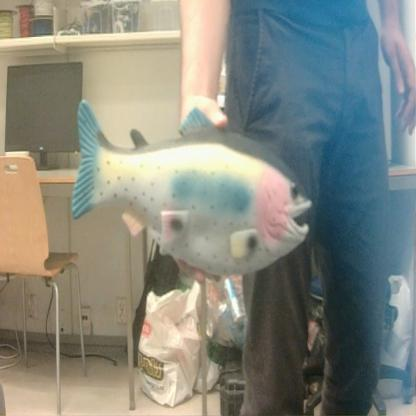rubberfish: (69, 92, 316, 282)
